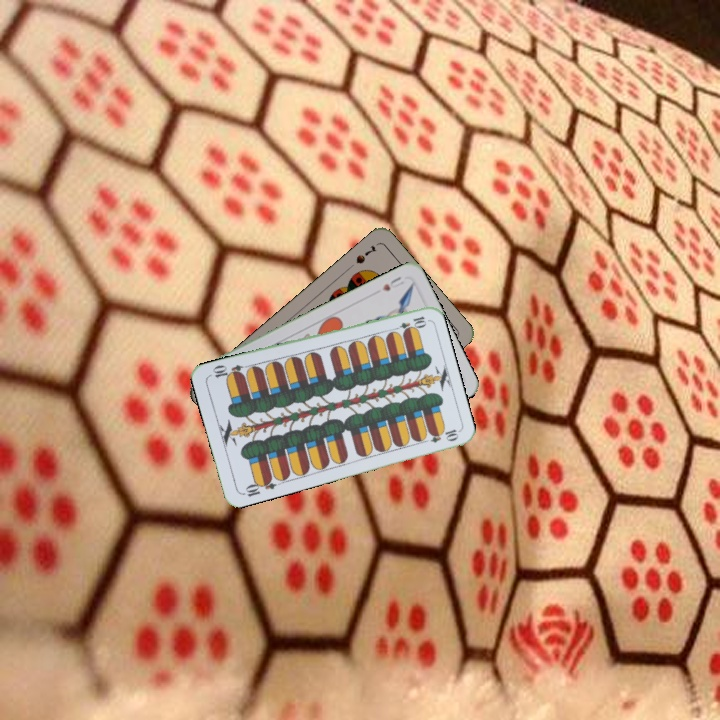E10: (238, 473, 278, 499), (388, 312, 429, 334)
HU: (378, 272, 407, 294)
S7: (352, 241, 379, 266)
